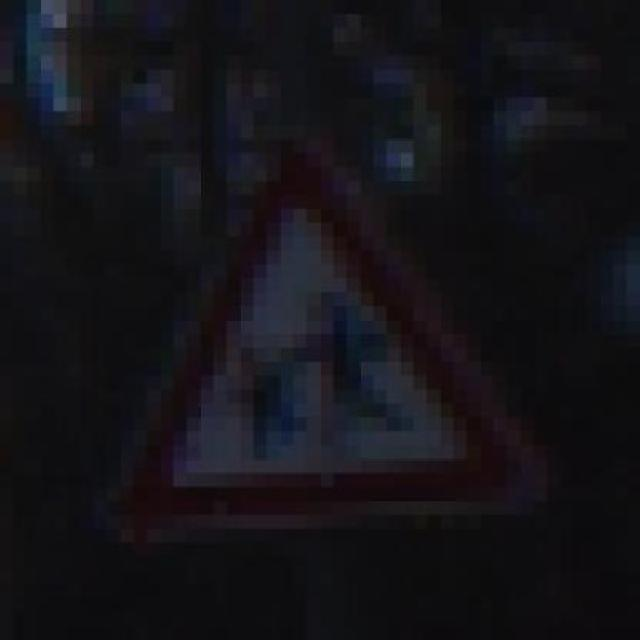Beware of children: (107, 111, 507, 529)
